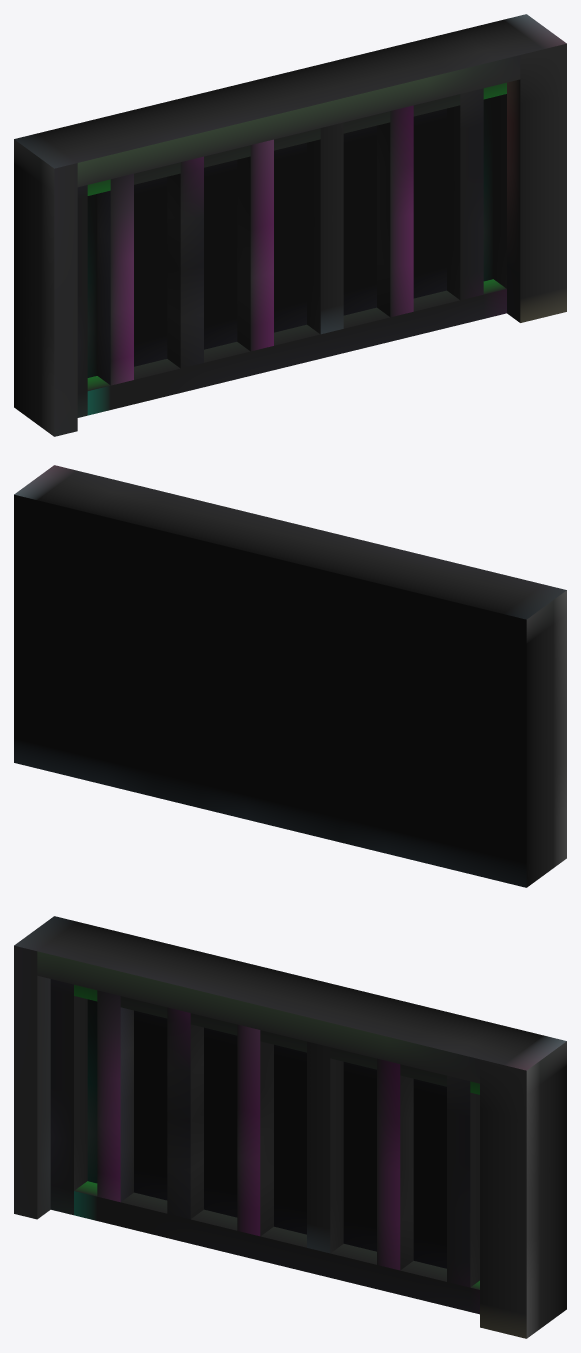
Rendered from SewerGrid_00.fbx.
3 renders of one model, top to bottom at view 1: azimuth 30°, elevation 25°; view 2: azimuth 150°, elevation 25°; view 3: azimuth 330°, elevation 25°, orthographic.
Parts seen in each view (by area): view 1: SewerGrid_00; view 2: SewerGrid_00; view 3: SewerGrid_00.
Boxes of the visible parts, x1,y1,x2,y2 form: SewerGrid_00: (14,14,566,436); SewerGrid_00: (14,465,566,887); SewerGrid_00: (14,916,566,1338).
Size of the model in its own units: 110 by 55 by 15.
